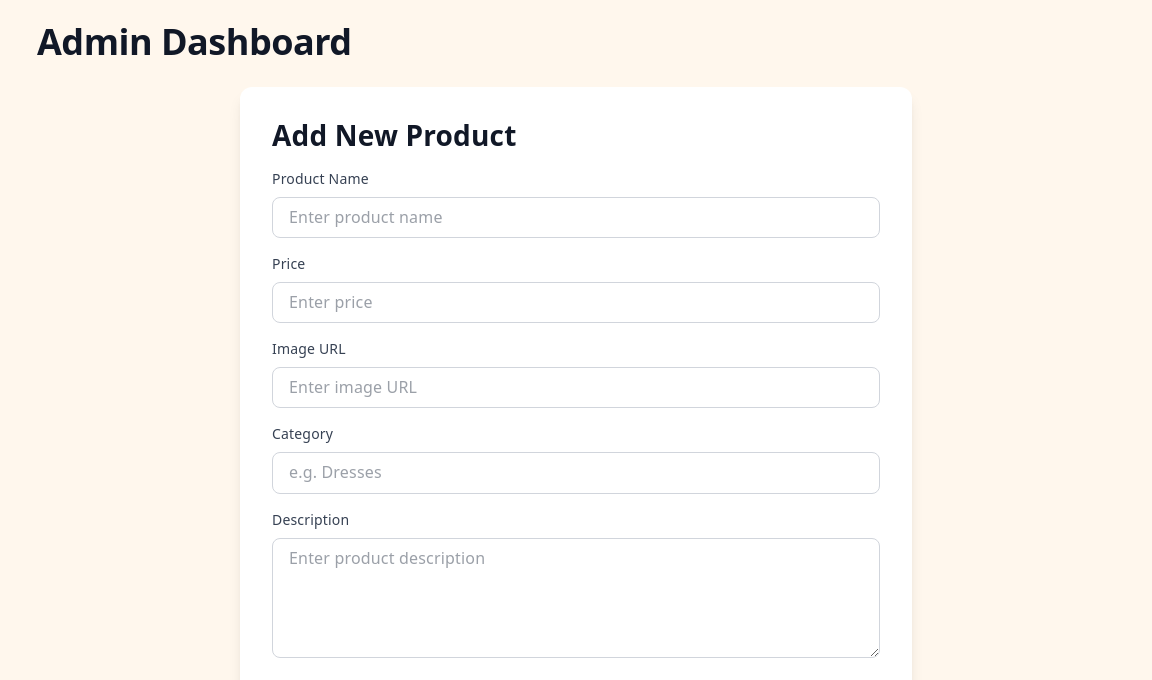
Test: Admin › adds a new product
Type "Black Hoodie" into the field with placeholder "Enter product name" at point(576, 217), box [272,197,880,238]
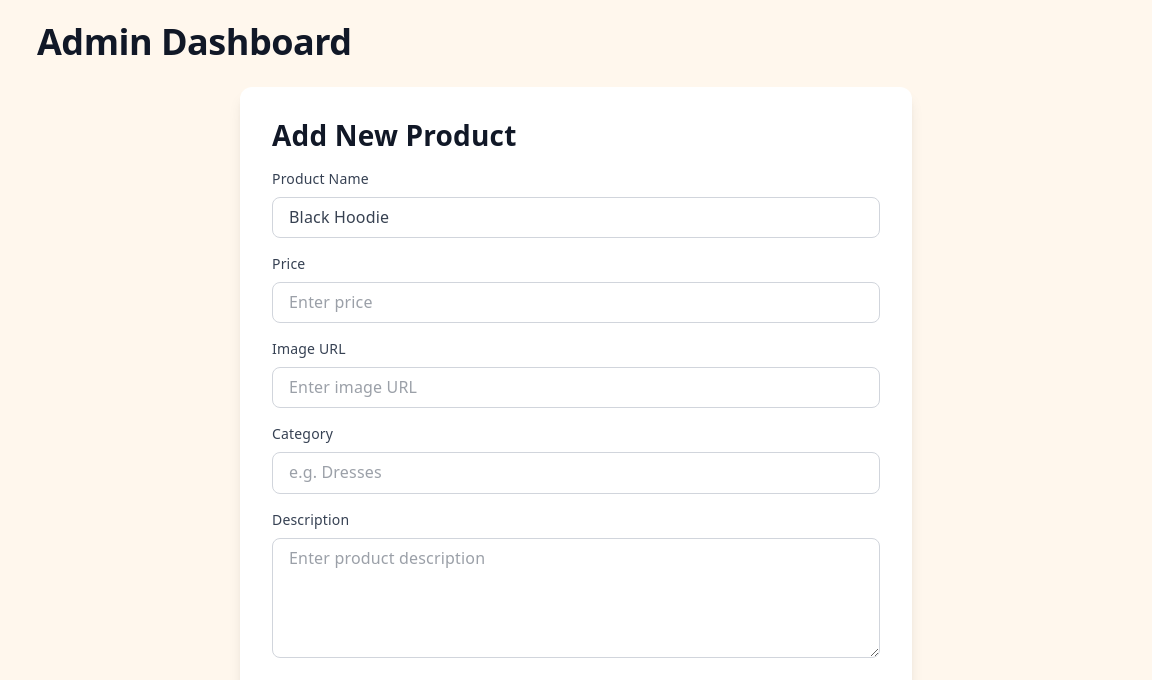
Type "2500" into the number field with placeholder "Enter price" at point(576, 303), box [272,282,880,323]
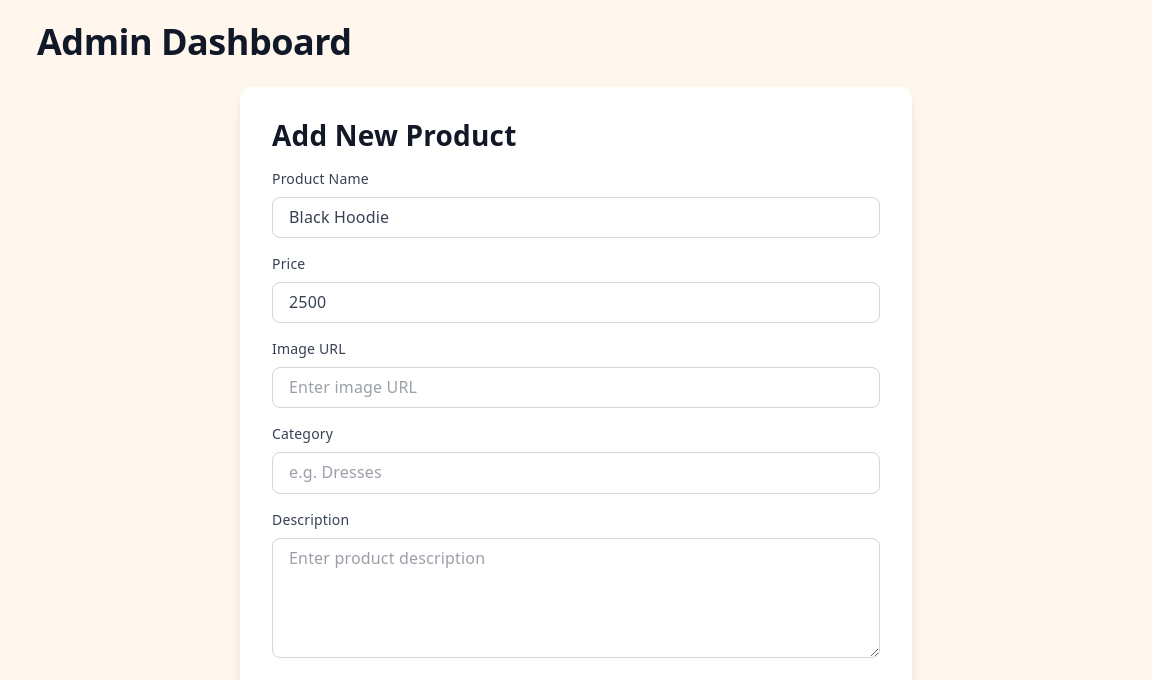
Type "hoodie.jpg" into the field with placeholder "Enter image URL" at point(576, 388), box [272,367,880,408]
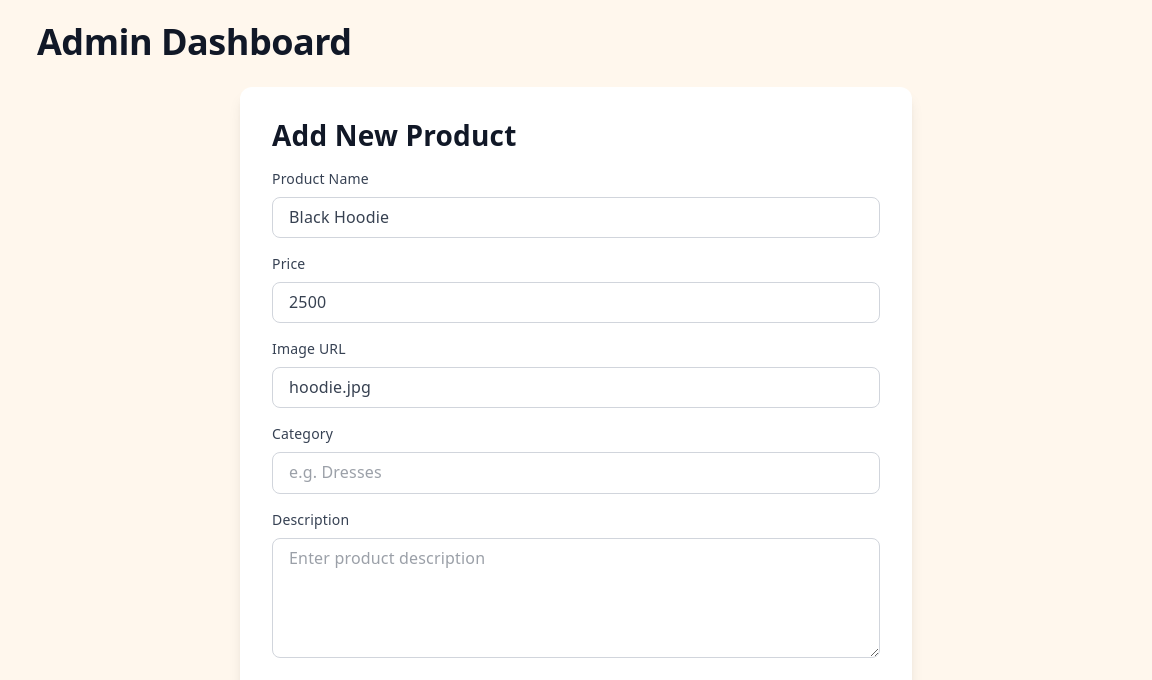
Type "Hoodies" into the field with placeholder "e.g. Dresses" at point(576, 473), box [272,452,880,494]
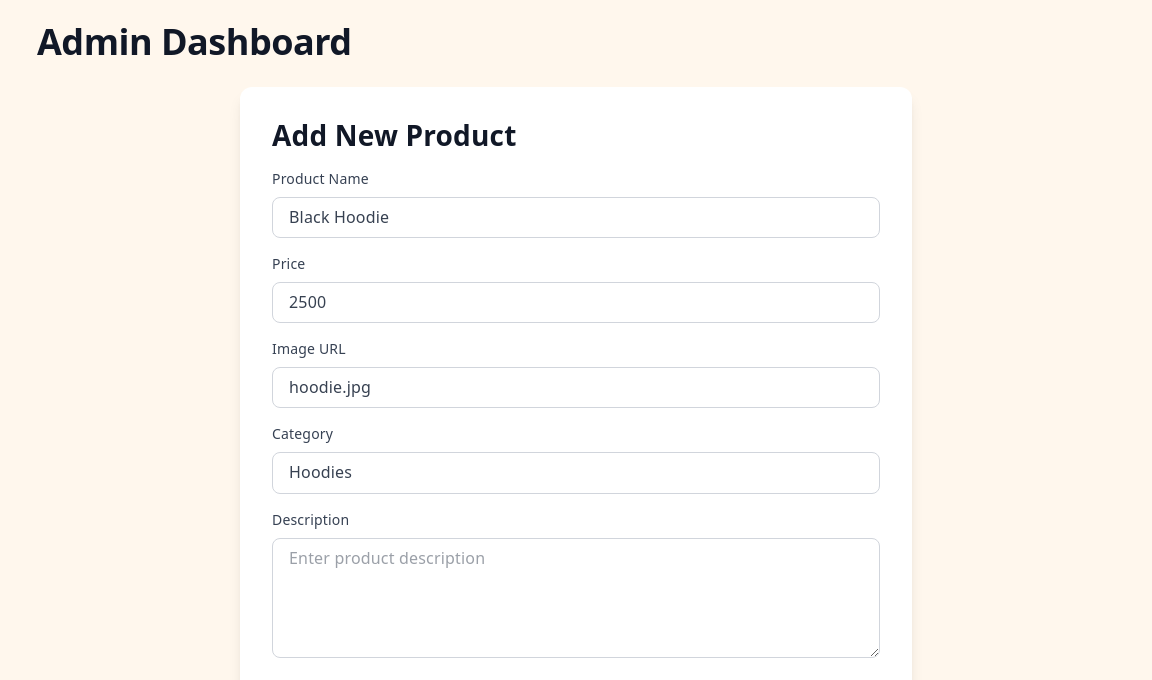
Type "A comfortable black hoodie" into the text box with placeholder "Enter product description" at point(576, 598), box [272,538,880,658]
(page scrolled)
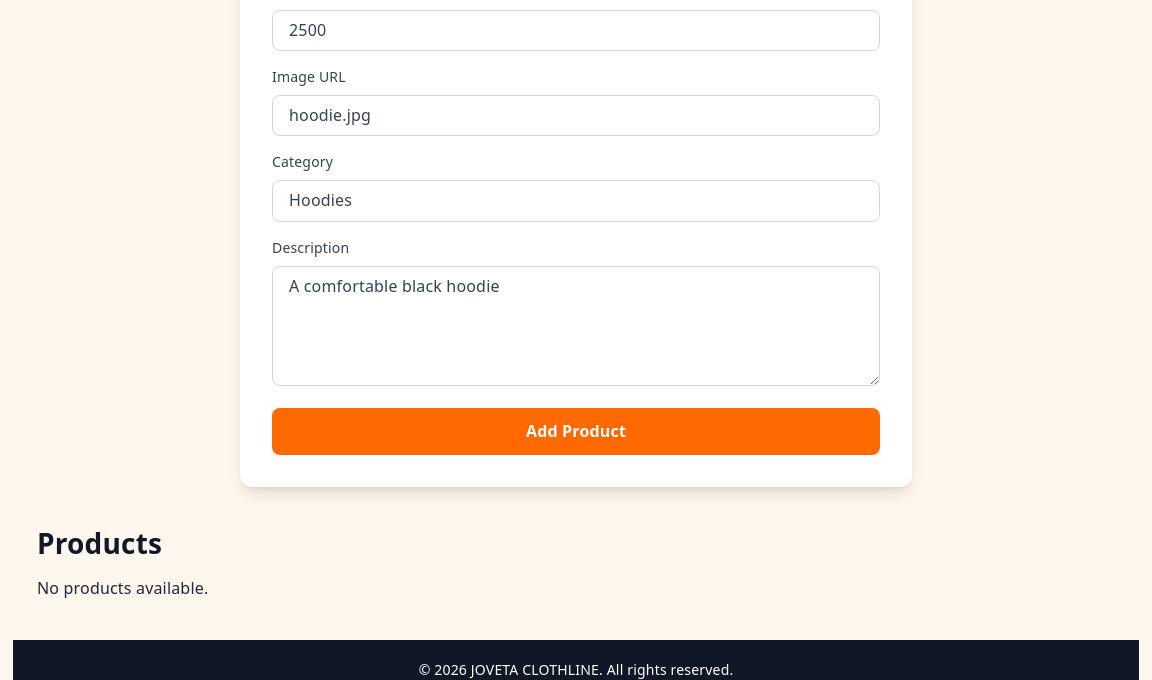
Click the button "Add Product" at point(576, 431), box [272,408,880,455]
(page scrolled)
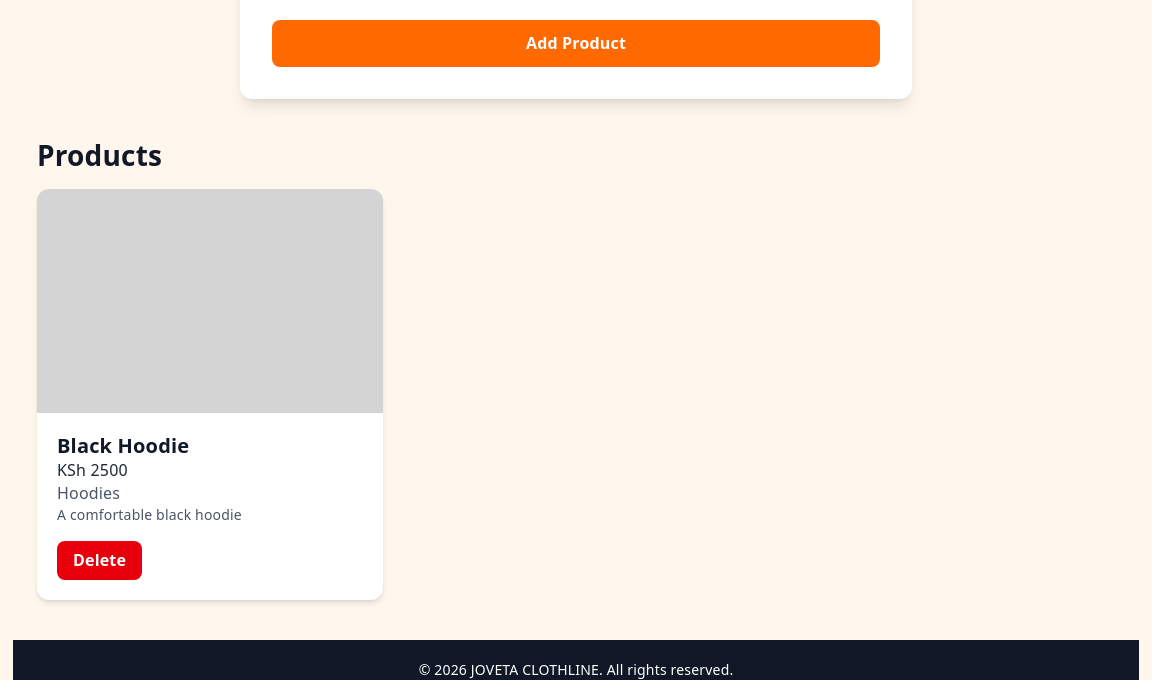
Result: the heading "Black Hoodie" is shown at [57,432,189,458]
Result: the text "KSh 2500" is shown at [57,458,128,480]
Result: the text "Hoodies" is shown at [57,482,120,504]
